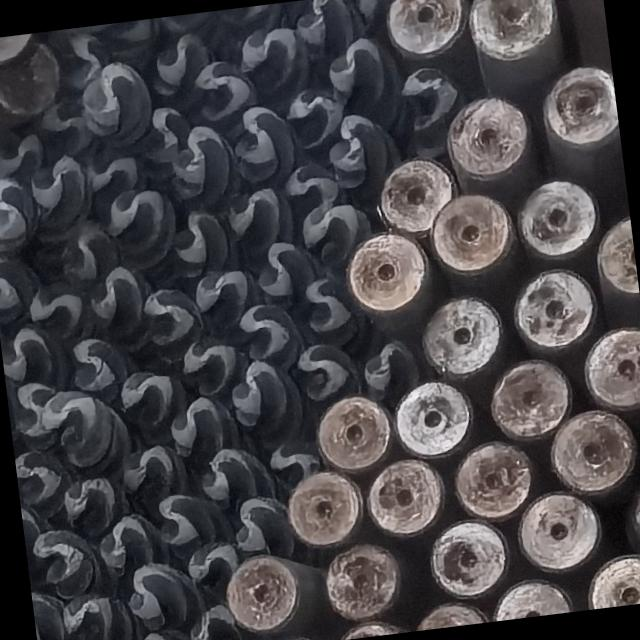tool: (544, 407, 640, 500), (428, 187, 518, 278), (512, 487, 604, 575), (342, 228, 434, 314), (422, 514, 509, 602), (512, 178, 599, 266), (451, 435, 538, 522), (484, 356, 572, 442), (442, 96, 532, 180), (362, 456, 448, 540), (512, 264, 598, 348), (536, 64, 618, 152), (388, 376, 473, 460), (312, 391, 395, 474), (422, 294, 507, 375), (282, 468, 364, 549), (376, 156, 458, 237), (223, 551, 301, 634), (463, 0, 557, 59), (577, 322, 640, 410), (0, 37, 65, 118), (382, 0, 468, 59), (484, 574, 574, 622), (593, 216, 640, 304), (581, 549, 640, 609), (414, 598, 486, 630), (0, 32, 37, 65)
tool_b: (324, 538, 404, 620), (76, 60, 146, 134), (25, 152, 93, 228), (191, 266, 267, 334), (168, 392, 242, 458), (237, 298, 305, 369), (96, 184, 170, 247), (248, 237, 320, 301), (116, 364, 188, 428), (165, 124, 229, 196), (322, 110, 386, 180), (140, 282, 202, 348), (168, 204, 230, 270), (230, 102, 290, 170), (193, 54, 253, 120), (121, 439, 189, 497), (150, 28, 213, 90), (126, 558, 188, 620), (25, 278, 88, 339), (226, 355, 287, 418), (41, 384, 103, 445), (399, 61, 461, 122), (284, 84, 346, 143), (32, 524, 89, 587), (296, 337, 352, 400), (64, 334, 122, 394), (0, 324, 56, 386), (58, 476, 122, 530), (0, 169, 42, 251), (220, 186, 286, 238), (282, 160, 344, 215), (296, 198, 362, 249), (58, 226, 115, 284), (198, 443, 254, 502), (326, 35, 386, 90), (14, 444, 67, 506), (231, 494, 287, 552), (38, 98, 96, 154), (178, 336, 238, 390), (94, 512, 148, 572), (359, 336, 419, 390), (300, 274, 352, 336), (238, 23, 300, 74), (154, 490, 204, 552), (187, 540, 243, 594), (88, 264, 142, 320), (76, 152, 144, 196), (57, 594, 119, 640), (11, 382, 58, 438), (264, 436, 320, 482), (290, 0, 349, 41), (59, 30, 102, 84), (147, 103, 186, 161), (31, 587, 69, 640), (0, 132, 45, 176), (186, 602, 235, 640), (0, 252, 24, 315), (132, 630, 178, 640)
